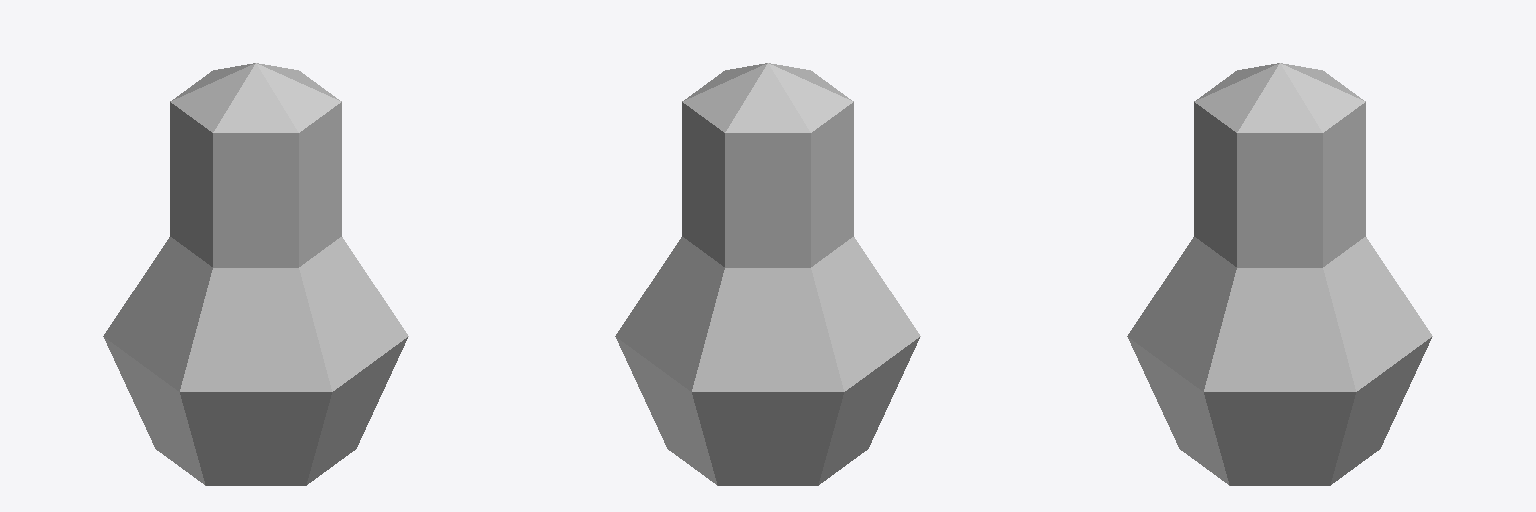
File: jar01.obj
The picture shows the model from 3 angles: view 1: azimuth 30°, elevation 25°; view 2: azimuth 150°, elevation 25°; view 3: azimuth 270°, elevation 25°; orthographic projection.
Visible parts, largest first — view 1: jar010; view 2: jar010; view 3: jar010.
Boxes of the visible parts, <box> form: jar010: <box>103,63,408,485</box>; jar010: <box>615,63,920,485</box>; jar010: <box>1127,63,1432,485</box>.
Bounding box in the file's own units: 0.4398 × 0.7081 × 0.5079.